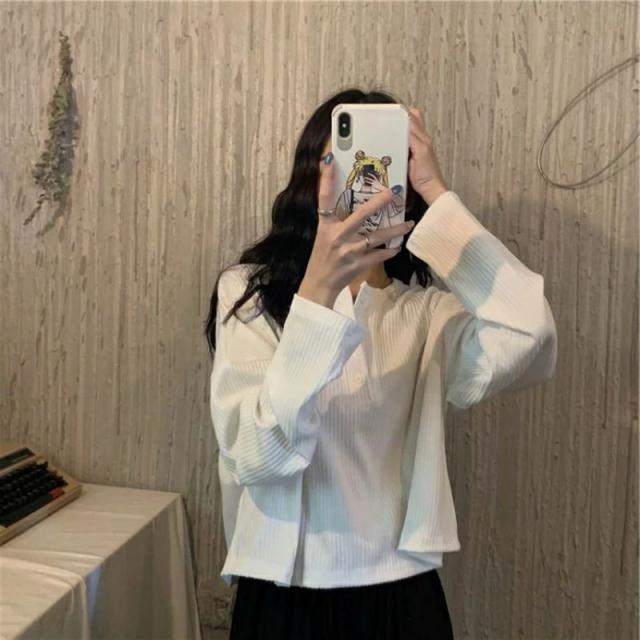Shirt: (206, 179, 564, 593)
